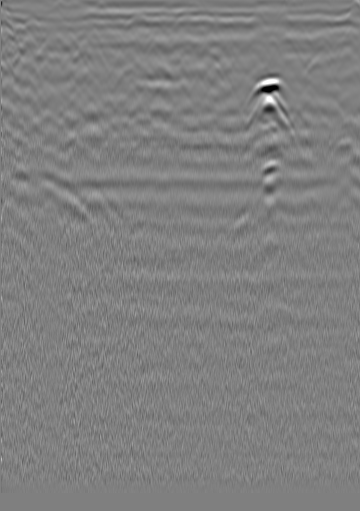가스: (254, 160, 290, 193)
상수: (18, 31, 38, 51)
오수: (285, 34, 305, 54)
우수: (149, 34, 169, 54)
